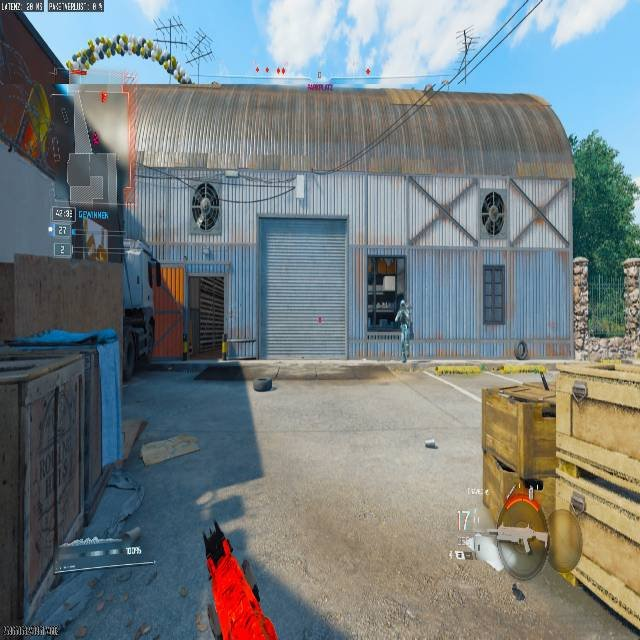player: (191, 180, 220, 233), (479, 190, 505, 240)
